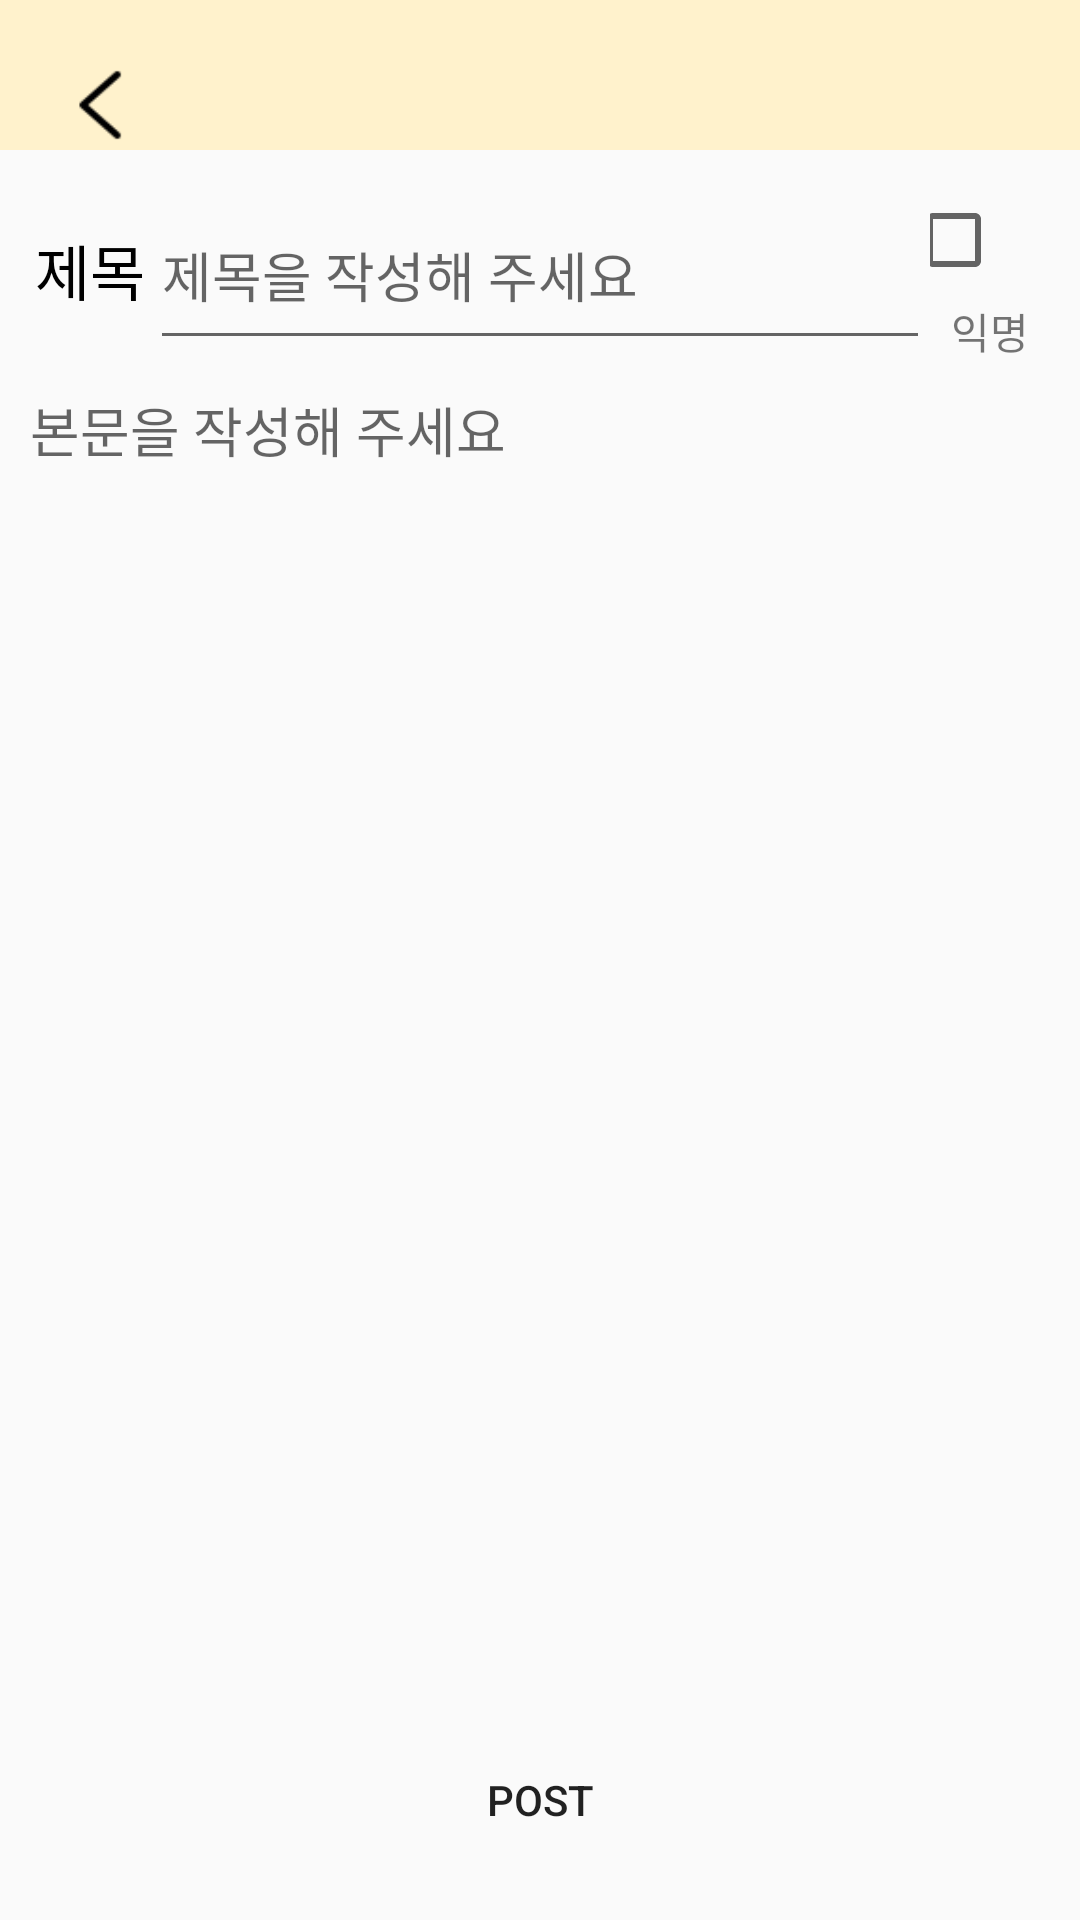

Icon click points for this 1080*1920 phone screenshot, format (x,y):
back: (100,105)
